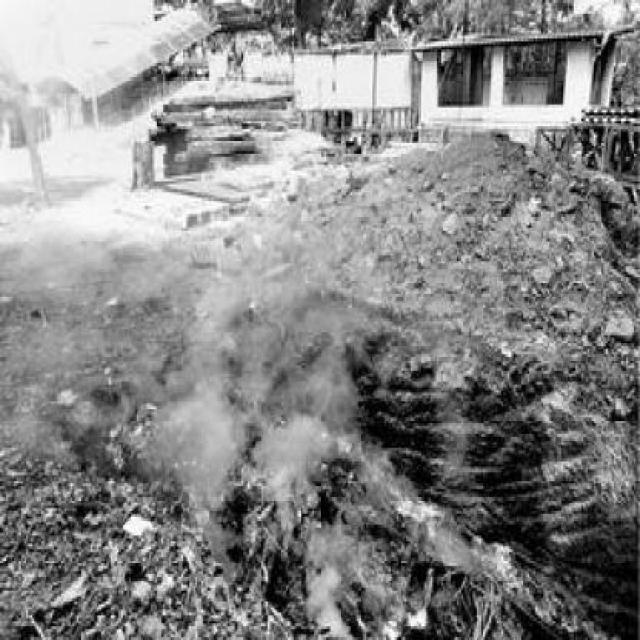garbage: (9, 245, 636, 638)
